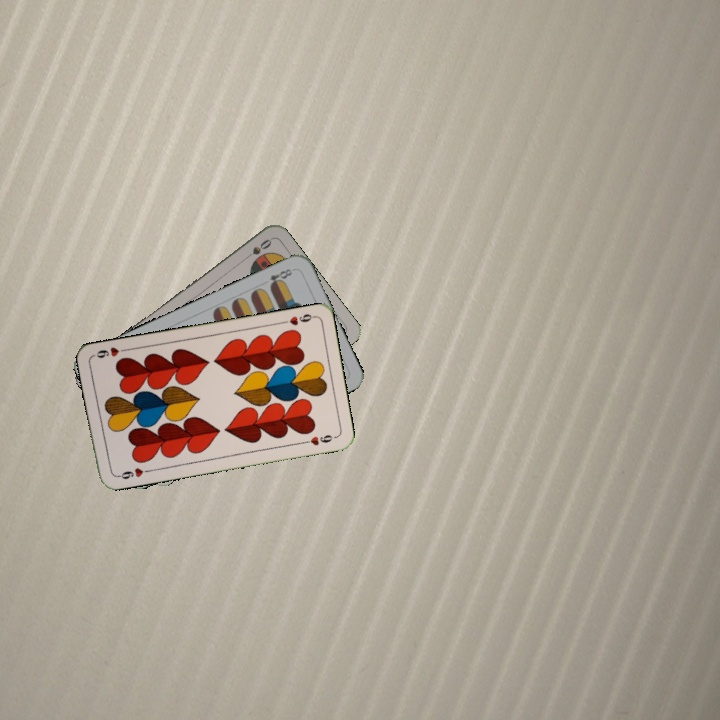E8: (265, 264, 297, 290)
H9: (112, 464, 153, 482), (277, 310, 317, 328)
SO: (239, 235, 274, 264)
